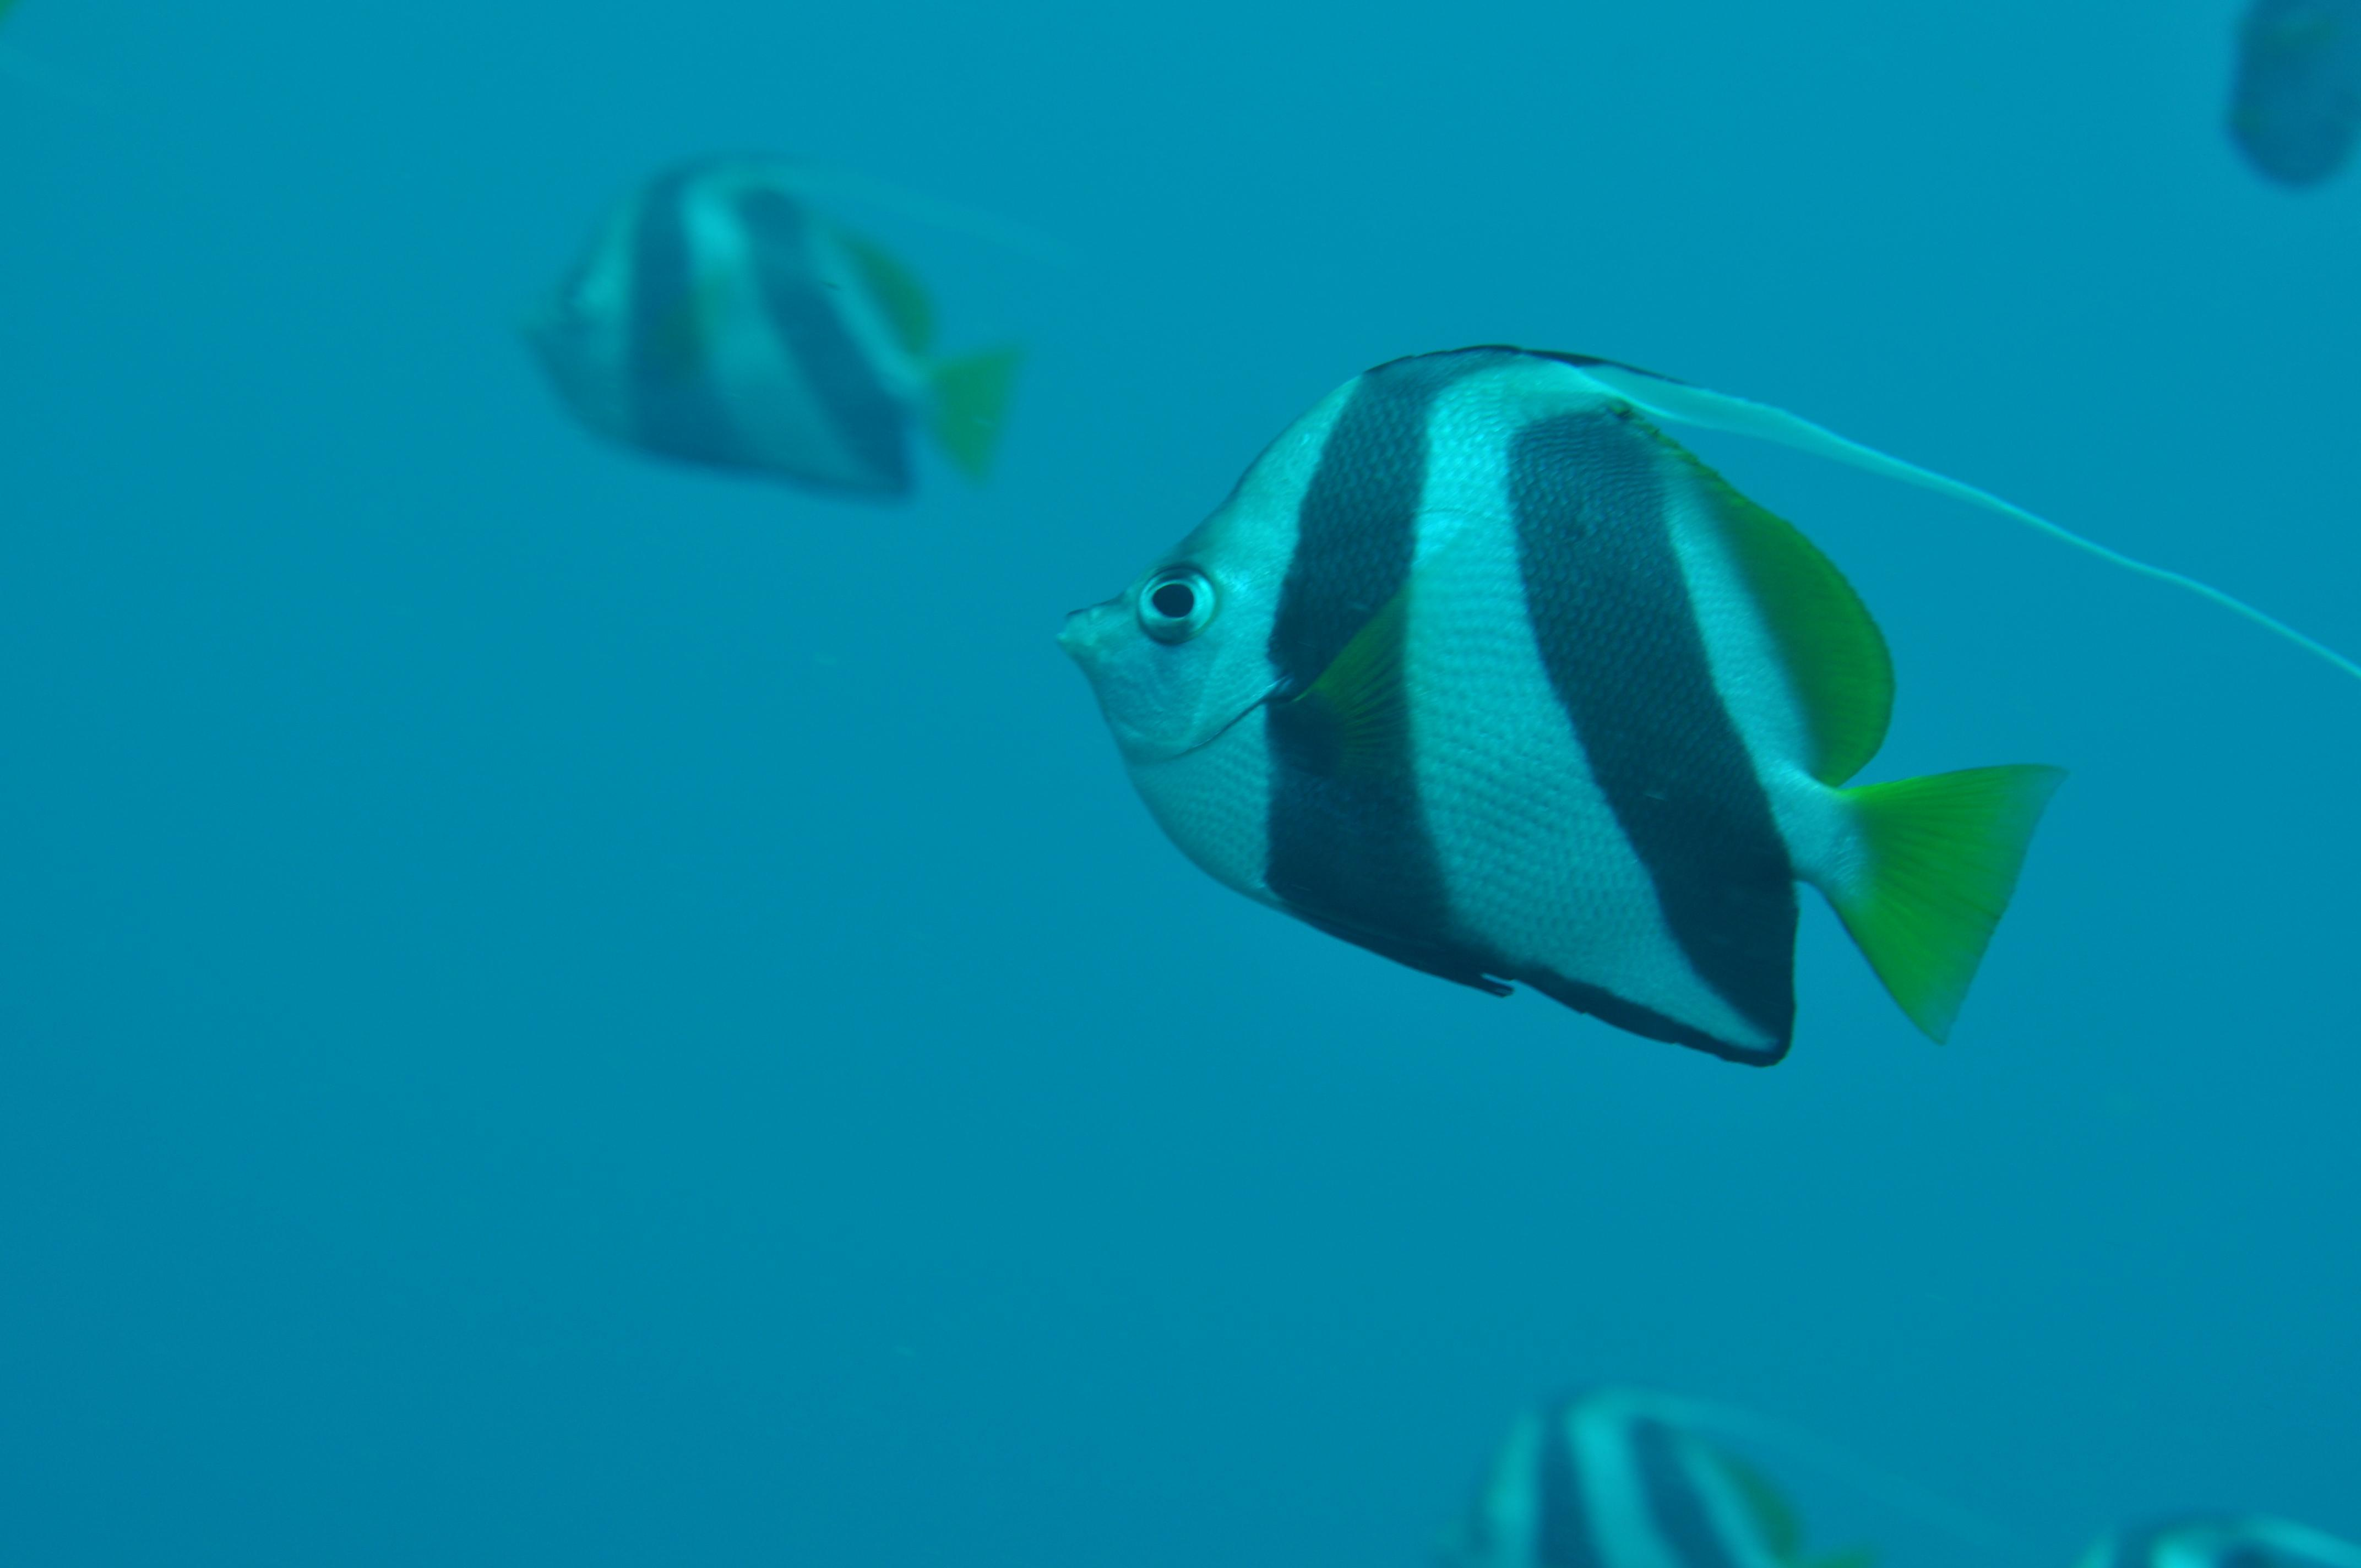Heniochus acuminatus: (952, 245, 2361, 1214)
